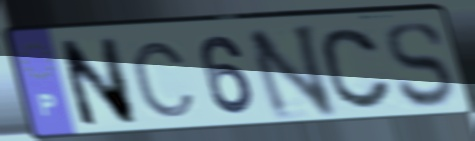6: (198, 33, 257, 119)
C: (317, 26, 396, 112), (128, 39, 199, 121)
N: (242, 20, 340, 123), (53, 34, 141, 132)
S: (383, 18, 457, 111)
